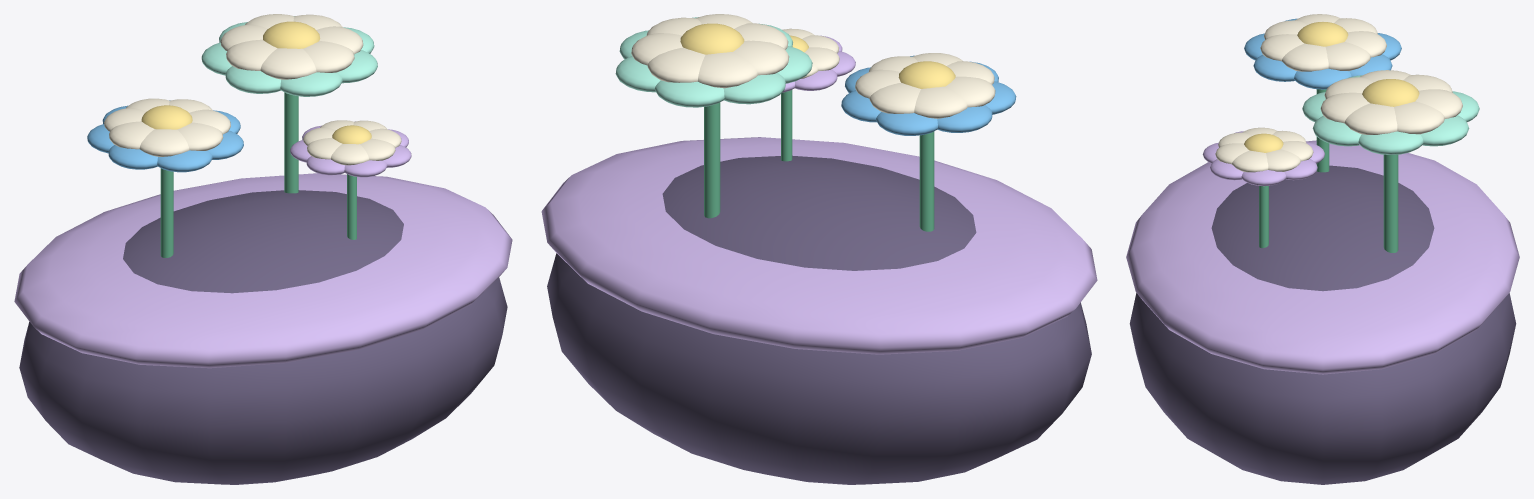
File: st_dream_island.glb
3 renders of one model, left to right at view 1: azimuth 30°, elevation 25°; view 2: azimuth 150°, elevation 25°; view 3: azimuth 270°, elevation 25°, orthographic. The views are drawn at different scales.
Visible parts, largest first — view 1: Moonlit_Garden_Island; view 2: Moonlit_Garden_Island; view 3: Moonlit_Garden_Island.
Part boxes in pixels (<box>): Moonlit_Garden_Island: <box>14,14,512,484</box>; Moonlit_Garden_Island: <box>541,14,1097,484</box>; Moonlit_Garden_Island: <box>1126,14,1519,484</box>.
Bounding box in the file's own units: 2.96 × 2.4 × 2.2.
